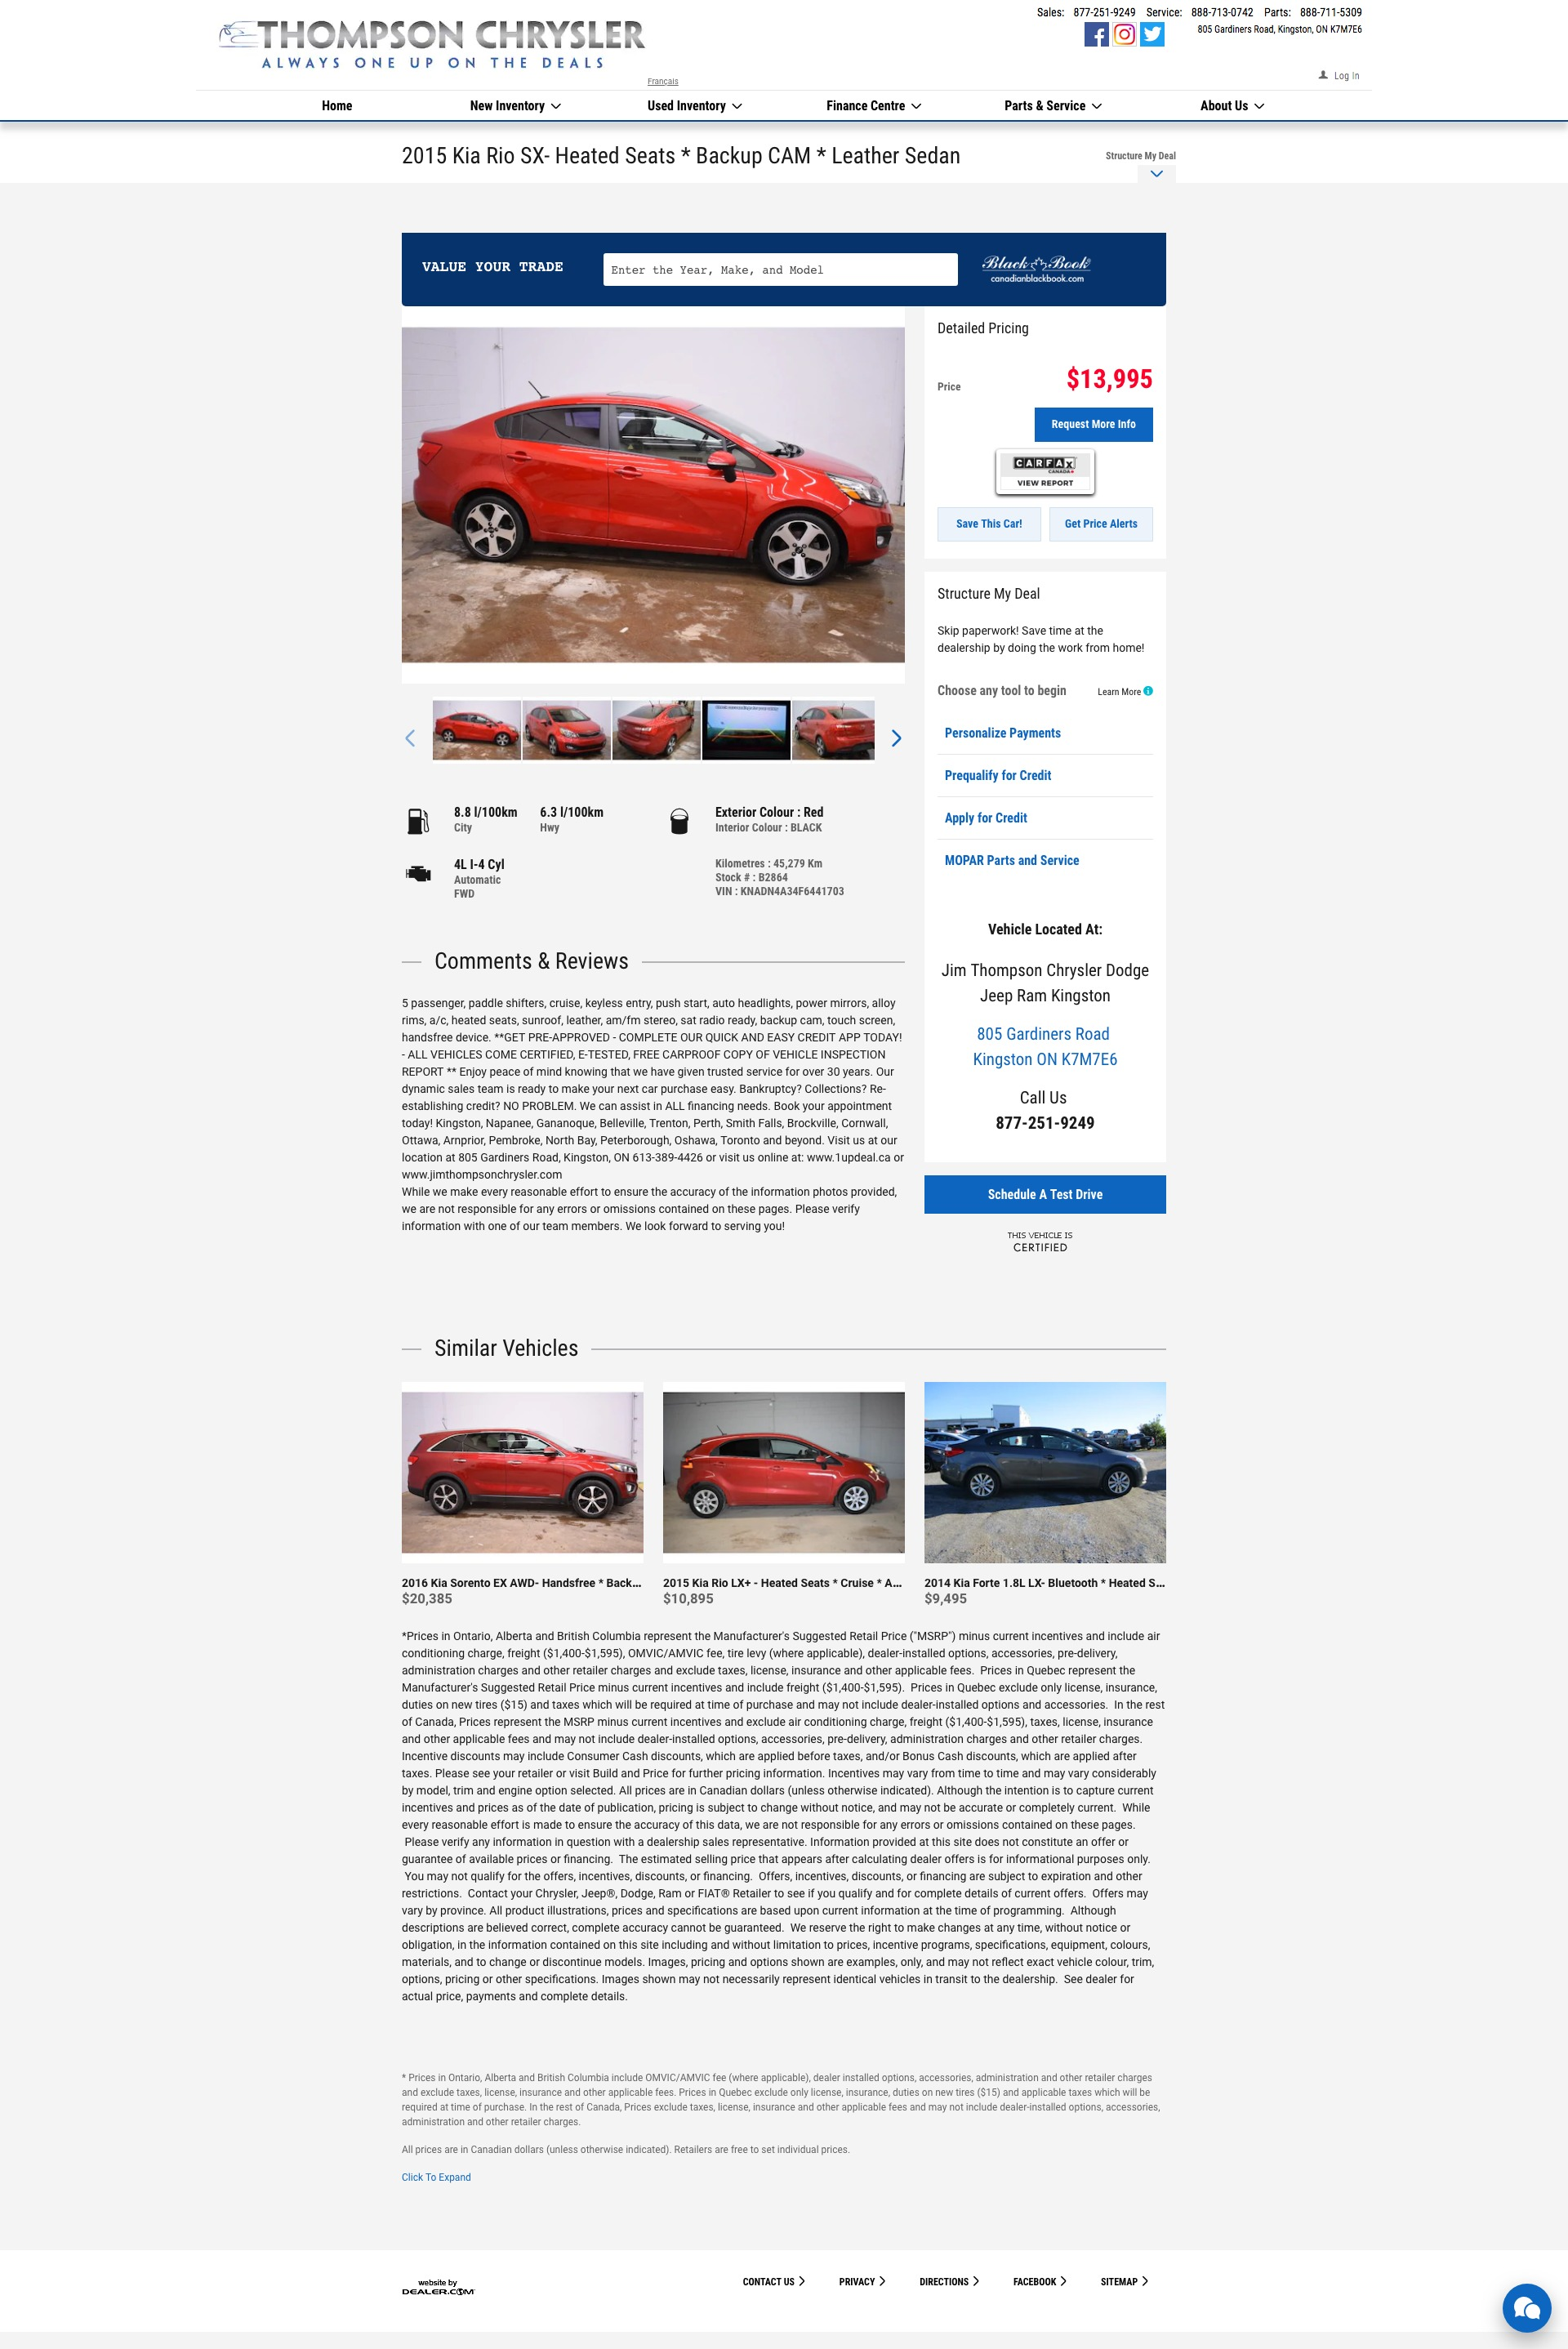car: (892, 730, 903, 747)
